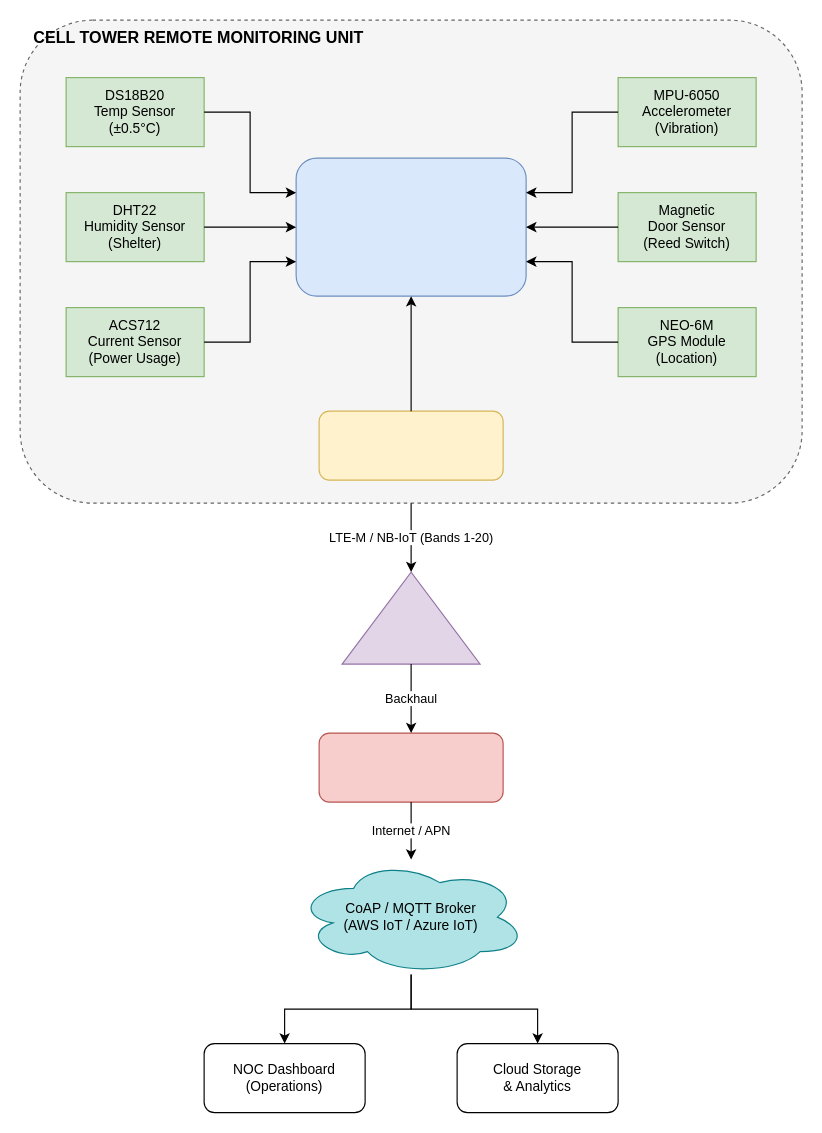
The diagram is 822 pixels wide and 1133 high, and some of its shapes have lost their labels. The centre of each missing label's shape, as x and y in pixels:
"Cell Tower (eNodeB) LTE Network" belongs at point (410, 617).
"Packet Gateway (PGW) Operator Core (EPC)" belongs at point (410, 767).
"Power Supply (12V DC Battery + Solar)" belongs at point (410, 445).
"STM32 / nRF9160 Microcontroller (LTE-M / NB-IoT)" belongs at point (410, 226).
